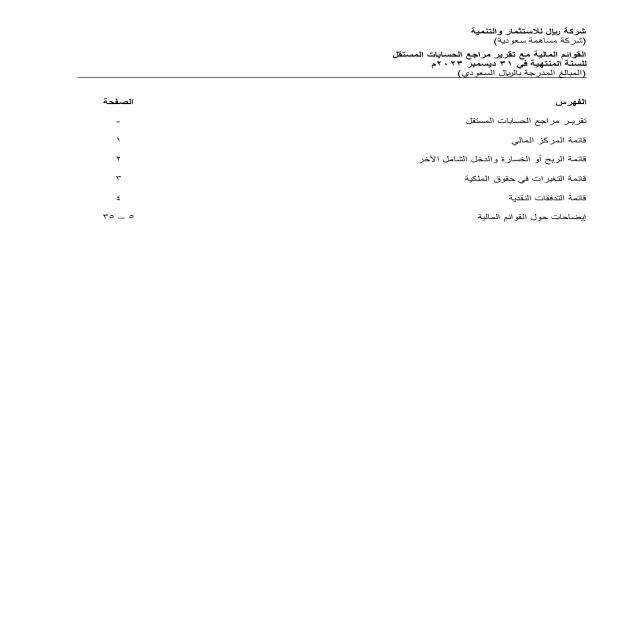other: (84, 89, 590, 236)
